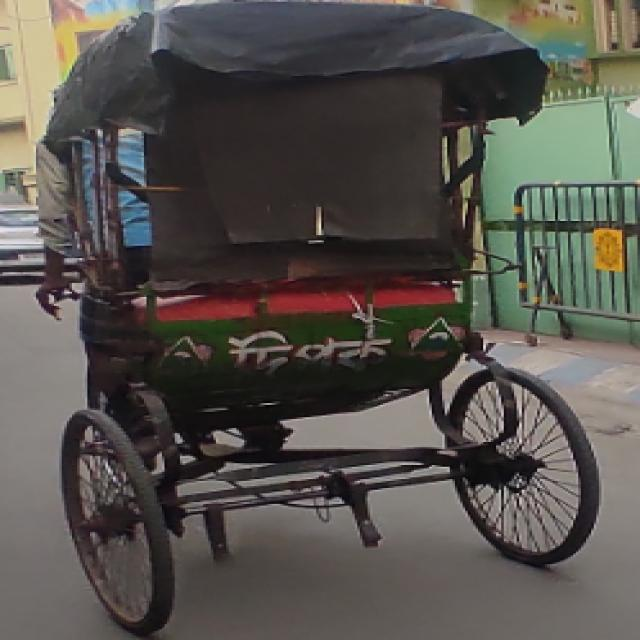rickshaw: (31, 2, 606, 640)
